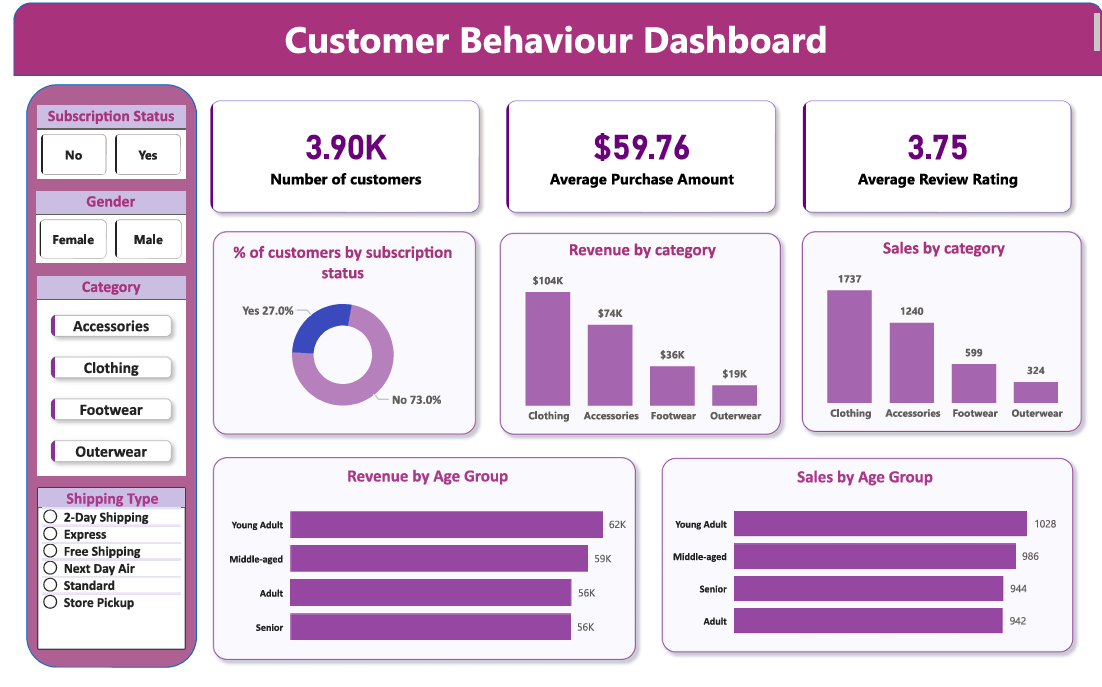

What the dashboard file says about the page in this screenshot:
{"tool":"powerbi","page":{"name":"Page 1","canvas":[1500,820],"ordinal":0},"visuals":[{"type":"cardVisual","fields":{"Data":["customer_behaviour customer.Number of customers","customer_behaviour customer.Average purchase amount","customer_behaviour customer.Average review rating"]},"box":[202.4,85.9,1068.2,189.4],"z":0},{"type":"shape","box":[224.7,258.8,325.9,256.5],"z":0,"group":"g1"},{"type":"shape","box":[915.3,258.8,345.9,252.9],"z":0,"group":"g3"},{"type":"shape","box":[561.2,261.2,347.1,254.1],"z":0,"group":"g2"},{"type":"shape","box":[0,0,1280,85.9],"z":1000},{"type":"clusteredColumnChart","title":"Sales by category","fields":{"Category":["customer_behaviour customer.category"],"Y":["customer_behaviour customer.Number of customers"]},"box":[920,274.5,341.2,223.9],"z":1000,"group":"g3"},{"type":"clusteredColumnChart","title":"Revenue by category","fields":{"Category":["customer_behaviour customer.category"],"Y":["Sum(customer_behaviour customer.purchase_amount)"]},"box":[565.9,277,342.3,224.9],"z":1000,"group":"g2"},{"type":"donutChart","title":"%  of customers by subscription status","fields":{"Y":["customer_behaviour customer.Number of customers"],"Category":["customer_behaviour customer.subscription_status"]},"box":[239.2,280.3,293.6,214.9],"z":1000,"group":"g1"},{"type":"textbox","box":[0,8.2,1280,60],"z":2000},{"type":"shape","box":[224.7,523.5,512.9,255.3],"z":3000,"group":"g4"},{"type":"shape","box":[750.6,524.7,500,244.7],"z":3000,"group":"g5"},{"type":"group","id":"g1","title":"Group 1","box":[224.7,258.8,325.9,256.5],"z":4000},{"type":"group","id":"g2","title":"Group 2","box":[561.2,261.2,347.1,254.1],"z":5000},{"type":"group","id":"g3","title":"Group 2","box":[915.3,258.8,345.9,252.9],"z":6000},{"type":"shape","box":[15.3,96.5,200,682.4],"z":7000},{"type":"advancedSlicerVisual","title":"Subscription Status","fields":{"Values":["customer_behaviour customer.subscription_status"]},"box":[28.2,121.2,174.1,85.9],"z":8000},{"type":"advancedSlicerVisual","title":"Gender","fields":{"Values":["customer_behaviour customer.gender"]},"box":[27.1,221.2,175.3,83.5],"z":9000},{"type":"advancedSlicerVisual","fields":{"Values":["customer_behaviour customer.category"]},"box":[28.2,321.2,174.1,234.1],"z":10000},{"type":"listSlicer","fields":{"Values":["customer_behaviour customer.shipping_type"]},"box":[28.2,568.2,174.1,189.4],"z":11000},{"type":"clusteredBarChart","title":"Revenue by Age Group","fields":{"Category":["customer_behaviour customer.age_group"],"Y":["Sum(customer_behaviour customer.purchase_amount)"]},"box":[246.3,542,476.9,226.9],"z":11001,"group":"g4"},{"type":"clusteredBarChart","title":"Sales by Age Group","fields":{"Category":["customer_behaviour customer.age_group"],"Y":["customer_behaviour customer.Number of customers"]},"box":[767,542.4,462.1,217.5],"z":11001,"group":"g5"},{"type":"group","id":"g4","title":"Group 3","box":[224.7,523.5,512.9,255.3],"z":11002},{"type":"group","id":"g5","title":"Group 3","box":[750.6,524.7,500,244.7],"z":11003}]}

Visuals, with their boxes on the page's 1500x820 design canvas (x1, y1, x2, y2). These are canvas units, not pixel positions in the 1102x687 screenshot, which may show the page scaled, cropped or inside an application window:
cardVisual - customer_behaviour customer.Number of customers x customer_behaviour customer.Average purchase amount: locate(202, 86, 1271, 275)
shape: locate(225, 259, 551, 515)
shape: locate(915, 259, 1261, 512)
shape: locate(561, 261, 908, 515)
shape: locate(0, 0, 1280, 86)
"Sales by category" clusteredColumnChart: locate(920, 274, 1261, 498)
"Revenue by category" clusteredColumnChart: locate(566, 277, 908, 502)
"%  of customers by subscription status" donutChart: locate(239, 280, 533, 495)
textbox: locate(0, 8, 1280, 68)
shape: locate(225, 524, 738, 779)
shape: locate(751, 525, 1251, 769)
"Group 1" group: locate(225, 259, 551, 515)
"Group 2" group: locate(561, 261, 908, 515)
"Group 2" group: locate(915, 259, 1261, 512)
shape: locate(15, 96, 215, 779)
"Subscription Status" advancedSlicerVisual: locate(28, 121, 202, 207)
"Gender" advancedSlicerVisual: locate(27, 221, 202, 305)
advancedSlicerVisual - customer_behaviour customer.category: locate(28, 321, 202, 555)
listSlicer - customer_behaviour customer.shipping_type: locate(28, 568, 202, 758)
"Revenue by Age Group" clusteredBarChart: locate(246, 542, 723, 769)
"Sales by Age Group" clusteredBarChart: locate(767, 542, 1229, 760)
"Group 3" group: locate(225, 524, 738, 779)
"Group 3" group: locate(751, 525, 1251, 769)
